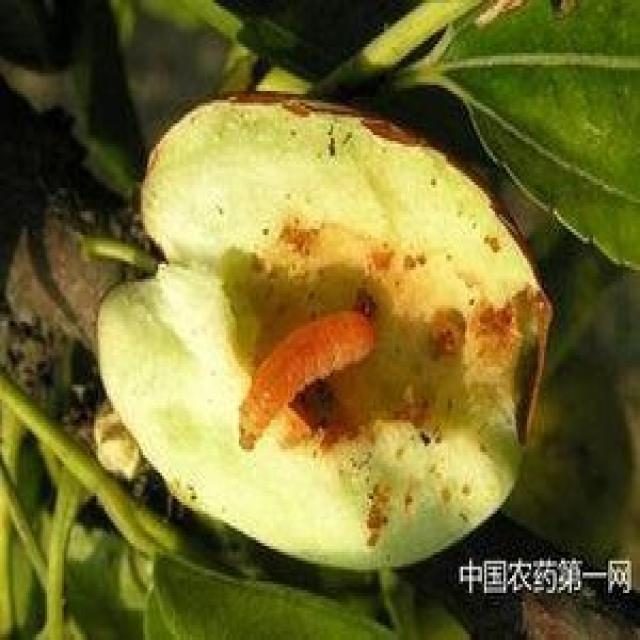peach borer: (235, 302, 373, 452)
